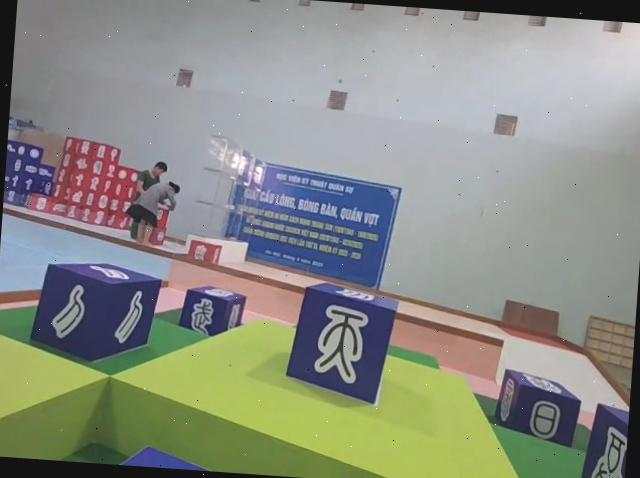R2 Fake Blue: (283, 279, 400, 406), (496, 368, 585, 448), (177, 284, 246, 339)
R2 Real Blue: (31, 259, 164, 368), (576, 402, 629, 478)
